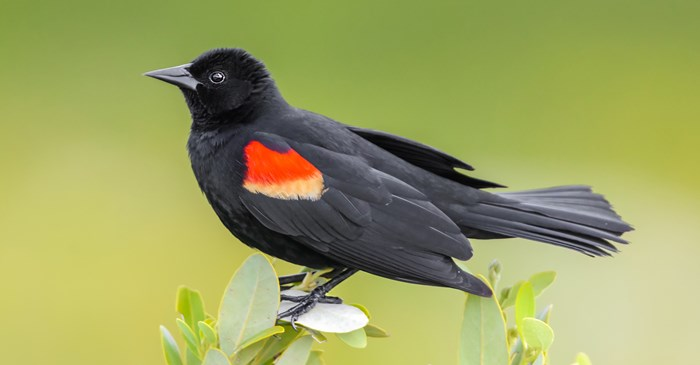bird: (175, 55, 609, 273)
